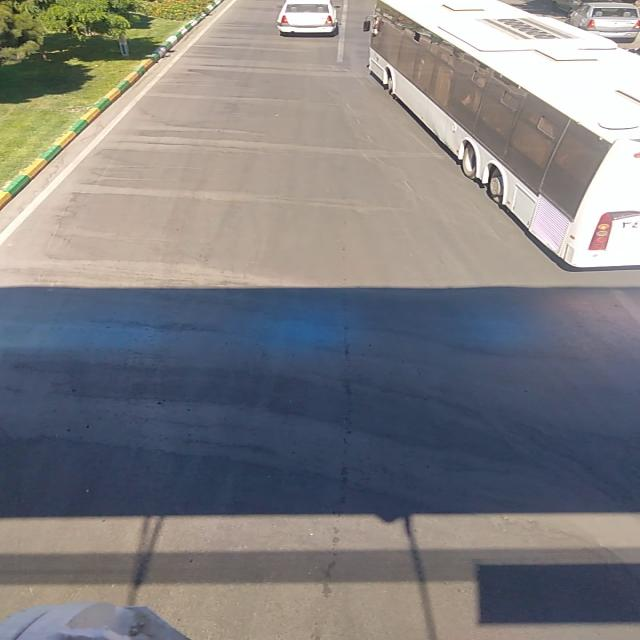bus: (363, 0, 638, 267)
car: (567, 4, 638, 42), (271, 1, 341, 36)
